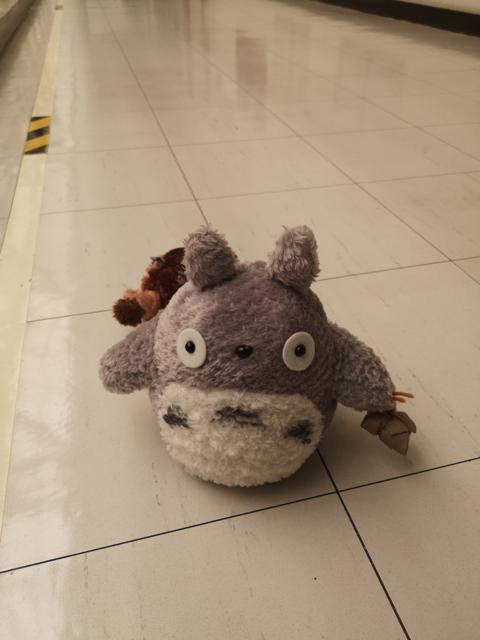nekobus: (109, 235, 189, 335)
totoro: (93, 221, 420, 503)
